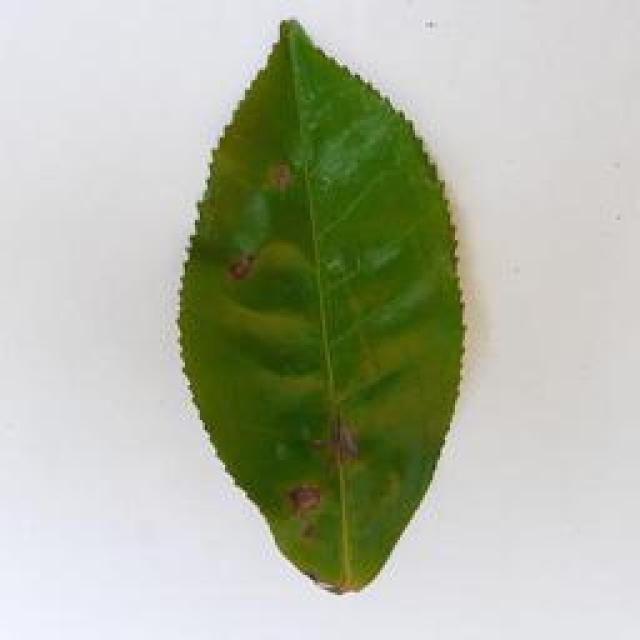Helopeltis: (174, 14, 470, 599)
